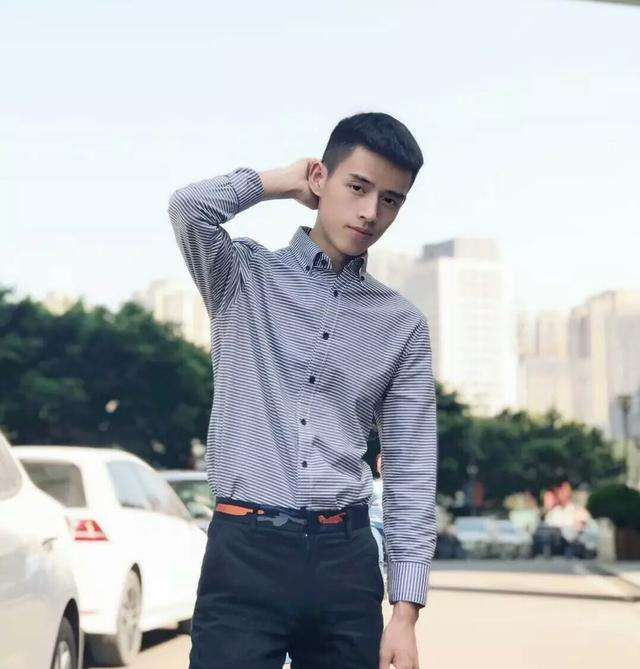person: (192, 97, 459, 669)
